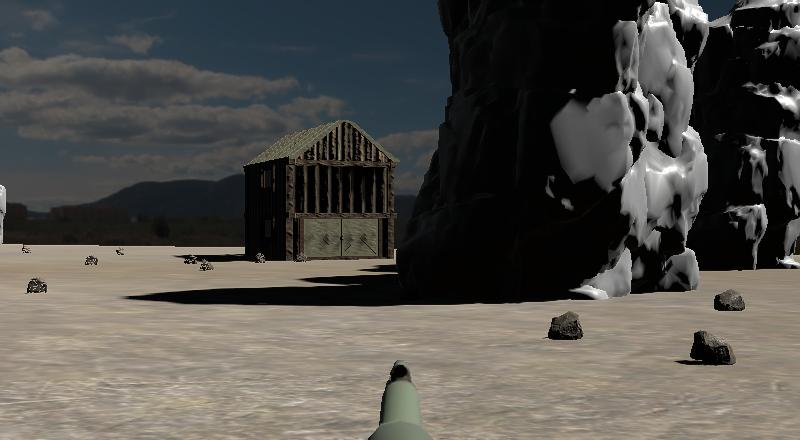House: (246, 119, 396, 257)
